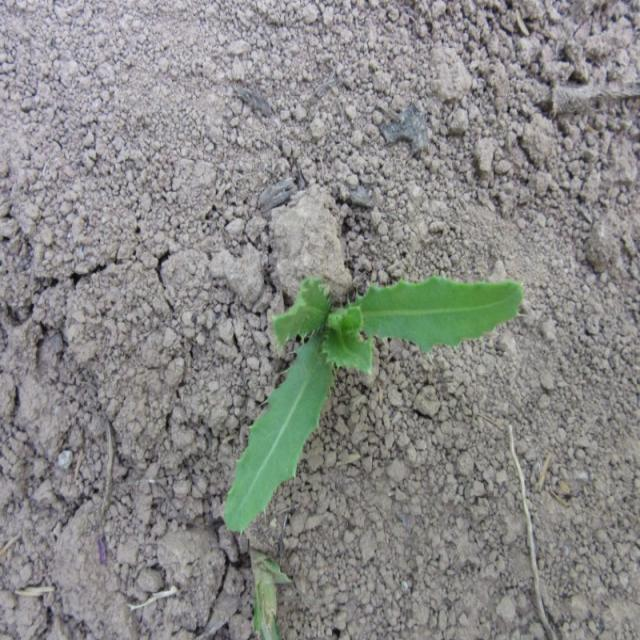field_thistle: (216, 245, 528, 564)
